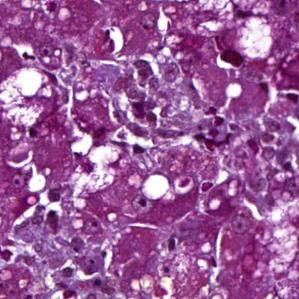ballooning: (2, 66, 57, 134), (214, 14, 277, 72), (67, 141, 124, 199)
